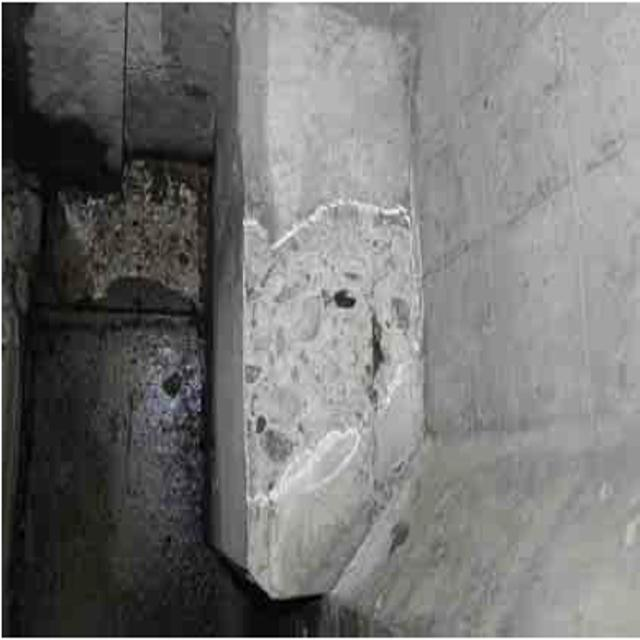spalling: (233, 200, 410, 514)
